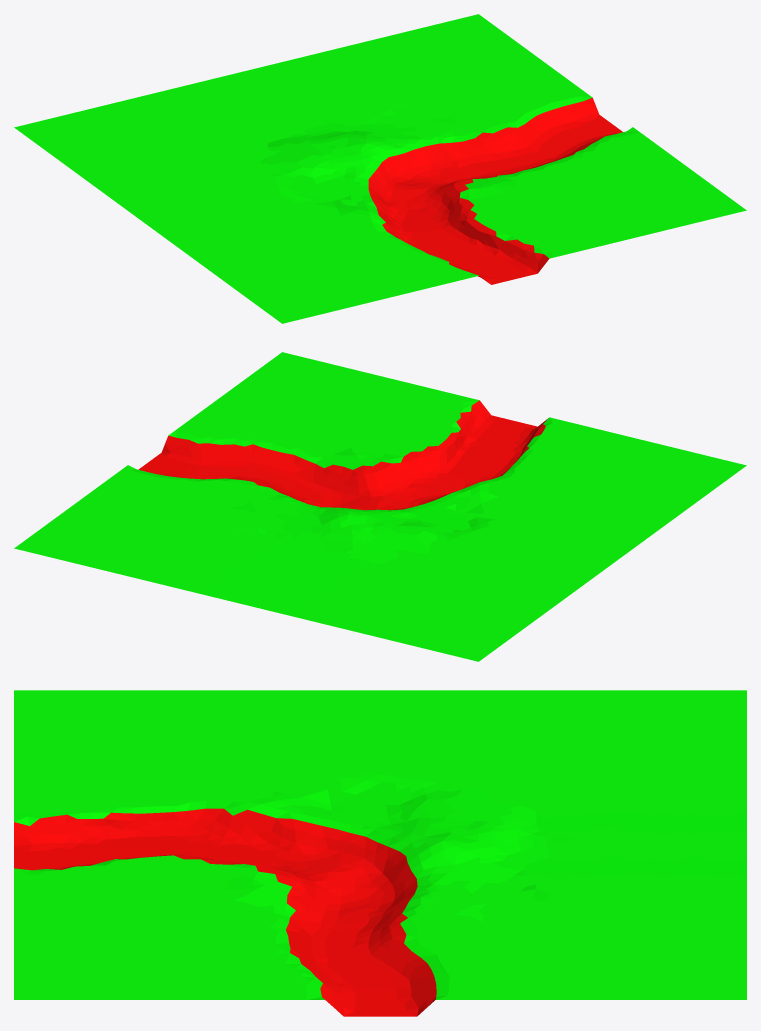
The model's file is RiverAngle06.fbx.
The picture shows the model from 3 angles, top to bottom: view 1: azimuth 30°, elevation 25°; view 2: azimuth 150°, elevation 25°; view 3: azimuth 270°, elevation 25°; orthographic projection. The views are drawn at different scales.
Parts seen in each view (by area): view 1: RiverAngle06; view 2: RiverAngle06; view 3: RiverAngle06.
Boxes of the visible parts, <box> form: RiverAngle06: <box>14,14,746,323</box>; RiverAngle06: <box>14,352,746,661</box>; RiverAngle06: <box>14,690,746,1016</box>.
Bounding box in the file's own units: 5009 × 246 × 5009.
